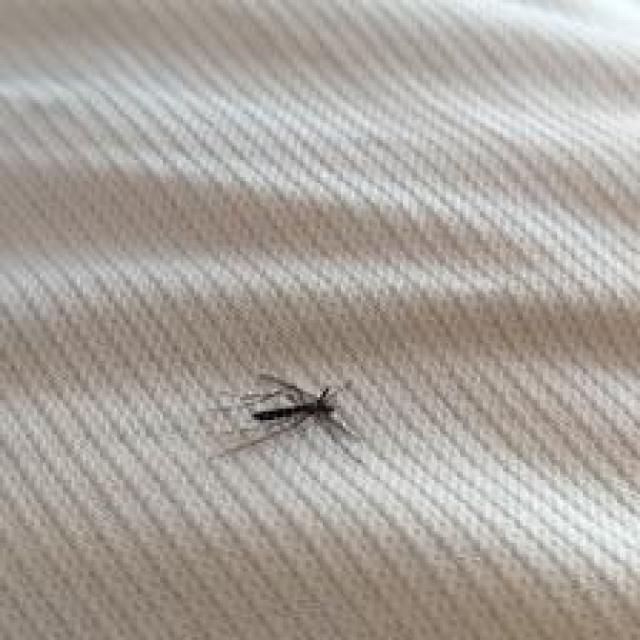Aedes albopictus: (210, 370, 367, 467)
